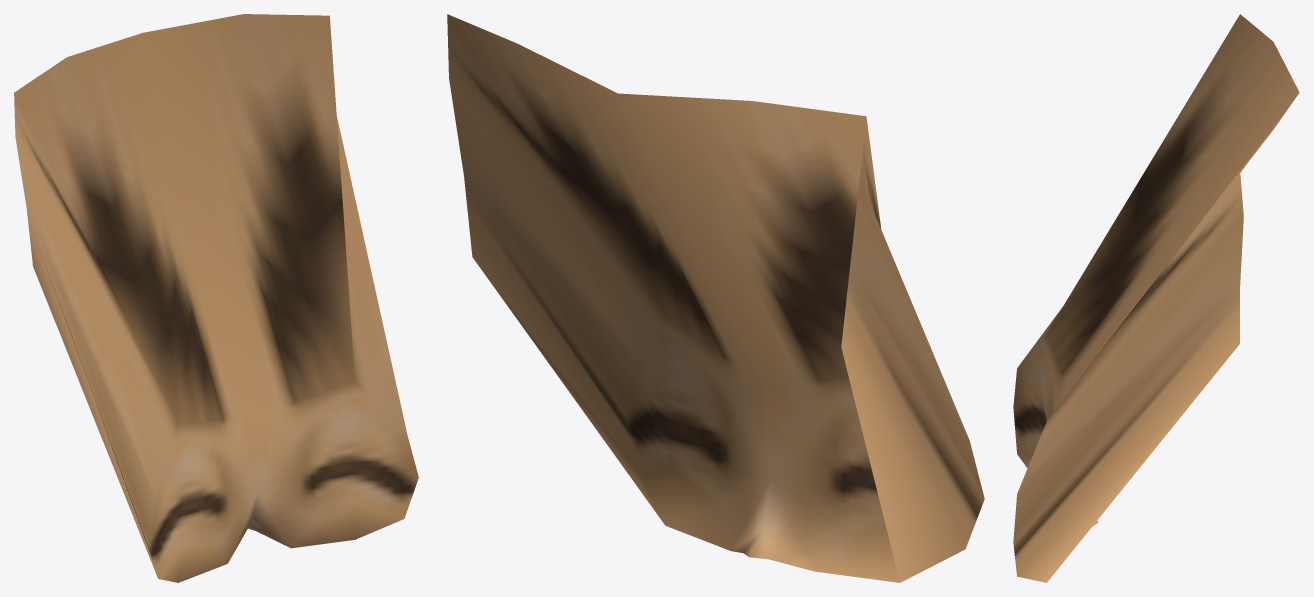
Rendered from batch_0009.obj.
3 renders of one model, left to right at view 1: azimuth 30°, elevation 25°; view 2: azimuth 150°, elevation 25°; view 3: azimuth 270°, elevation 25°, orthographic. The views are drawn at different scales.
Parts seen in each view (by area): view 1: batch_0009; view 2: batch_0009; view 3: batch_0009.
Part boxes in pixels (box(x1,y1,x2,y2)): batch_0009: box(14, 14, 418, 582); batch_0009: box(447, 14, 984, 582); batch_0009: box(1013, 14, 1299, 582).
Size of the model in its own units: 25 by 33.63 by 19.25.
Materials: 1 (1 with a texture image).
